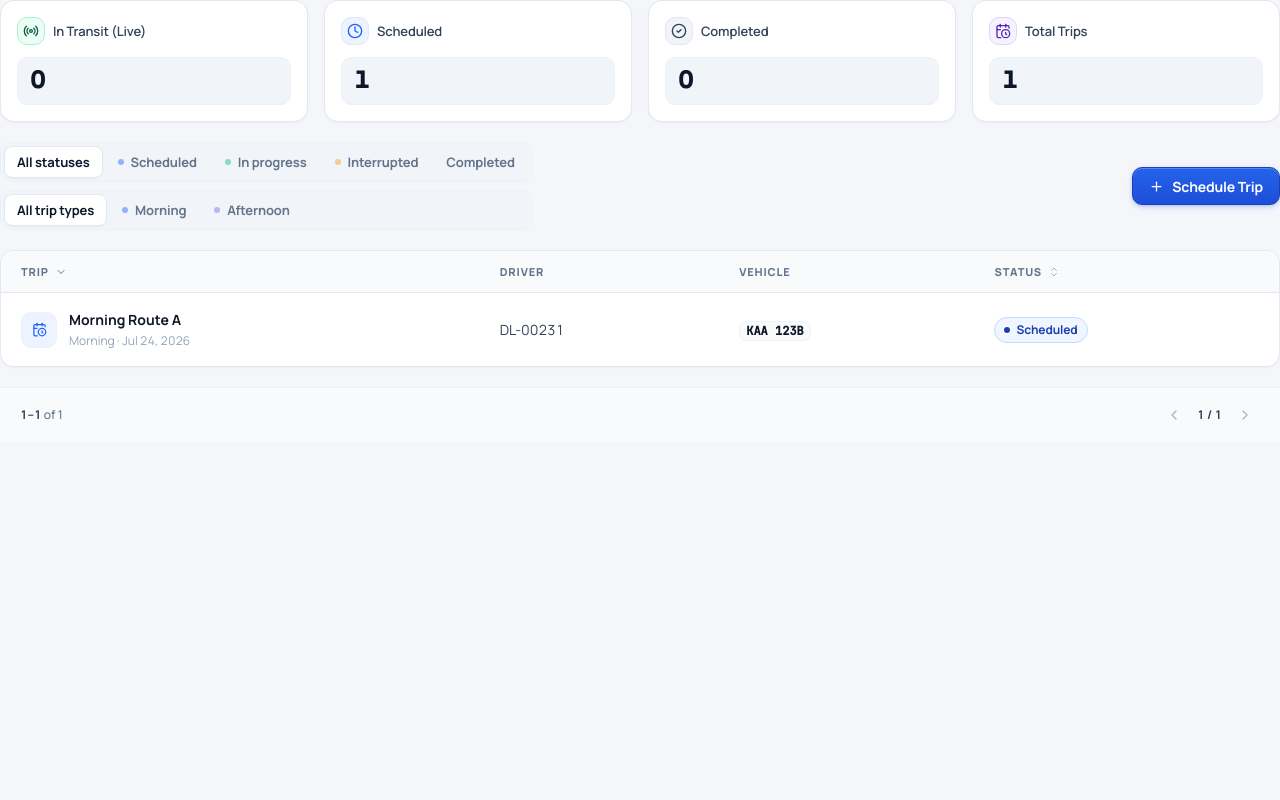
it: TripsPage › opens the detail drawer and shows organization/vehicle/driver/route names
Click the text "Morning Route A".
click(130, 320)  # box [69, 309, 190, 331]
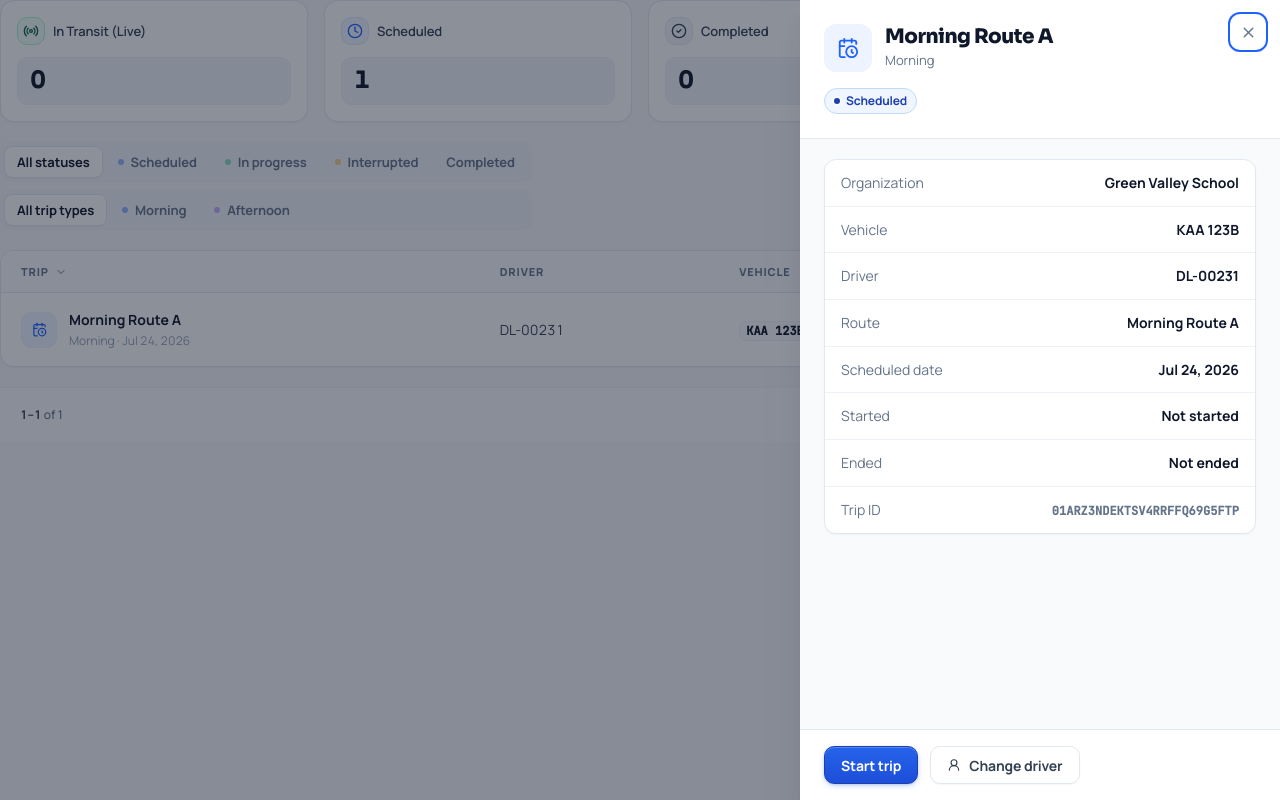
Now the text "Green Valley School" is shown, box [1105, 172, 1239, 194]
Now the text "Not started" is shown, box [1161, 405, 1239, 427]
Now the text "Not ended" is shown, box [1169, 452, 1239, 474]
